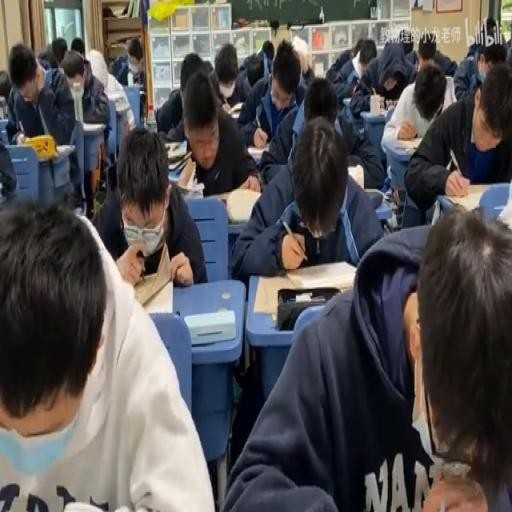calculator: (278, 259, 356, 294), (184, 308, 234, 342), (136, 272, 171, 314), (226, 186, 260, 225), (386, 132, 422, 154), (174, 155, 196, 191), (164, 139, 187, 161), (367, 185, 392, 205), (205, 189, 231, 206), (347, 162, 363, 188), (82, 118, 104, 132), (226, 101, 242, 117), (444, 74, 455, 97), (362, 110, 386, 120), (114, 91, 128, 108), (246, 144, 266, 155), (341, 94, 350, 105)
paper: (2, 194, 214, 509), (405, 201, 510, 509), (404, 58, 510, 218), (6, 40, 82, 209), (287, 70, 386, 190), (169, 68, 259, 199), (90, 47, 133, 136), (402, 27, 456, 81), (453, 47, 482, 98), (324, 38, 355, 84), (0, 124, 17, 202), (156, 87, 182, 135), (60, 48, 86, 94), (179, 52, 205, 92), (125, 34, 144, 85), (480, 42, 506, 76), (206, 67, 226, 107), (244, 52, 265, 86), (383, 74, 405, 98), (51, 36, 67, 66), (0, 68, 12, 107), (398, 28, 414, 54), (37, 42, 52, 66), (300, 60, 314, 85), (261, 40, 274, 64), (485, 16, 498, 40), (351, 37, 364, 57), (70, 37, 84, 55)
person: (139, 246, 160, 276), (254, 170, 264, 190), (448, 202, 466, 212)
